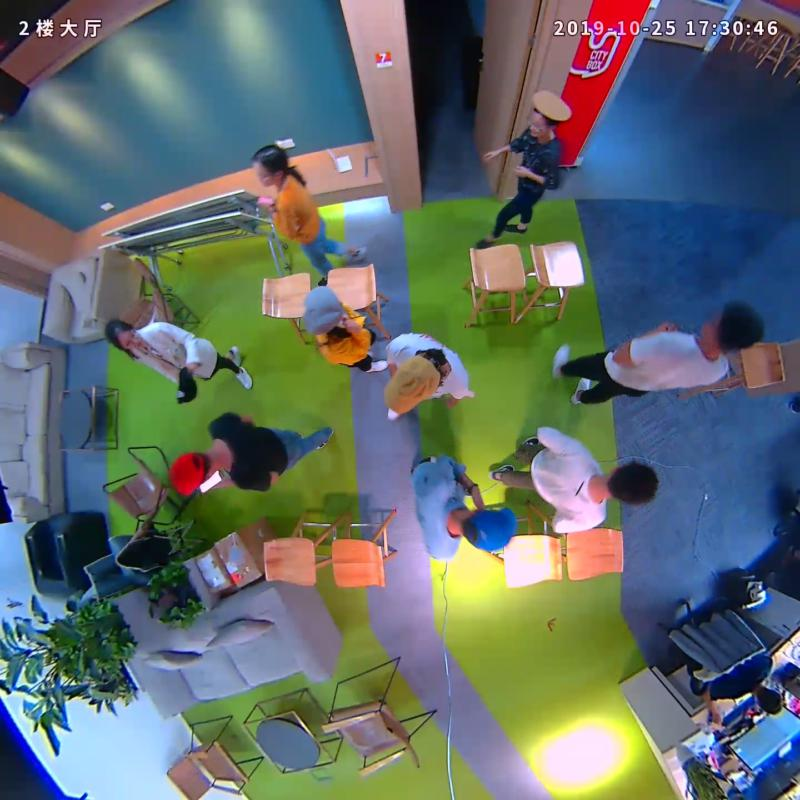head: (382, 352, 442, 415), (698, 298, 764, 355), (464, 505, 516, 553), (606, 460, 659, 505), (168, 450, 215, 497), (528, 90, 573, 137), (302, 285, 344, 335), (251, 144, 287, 187), (104, 318, 144, 352)
